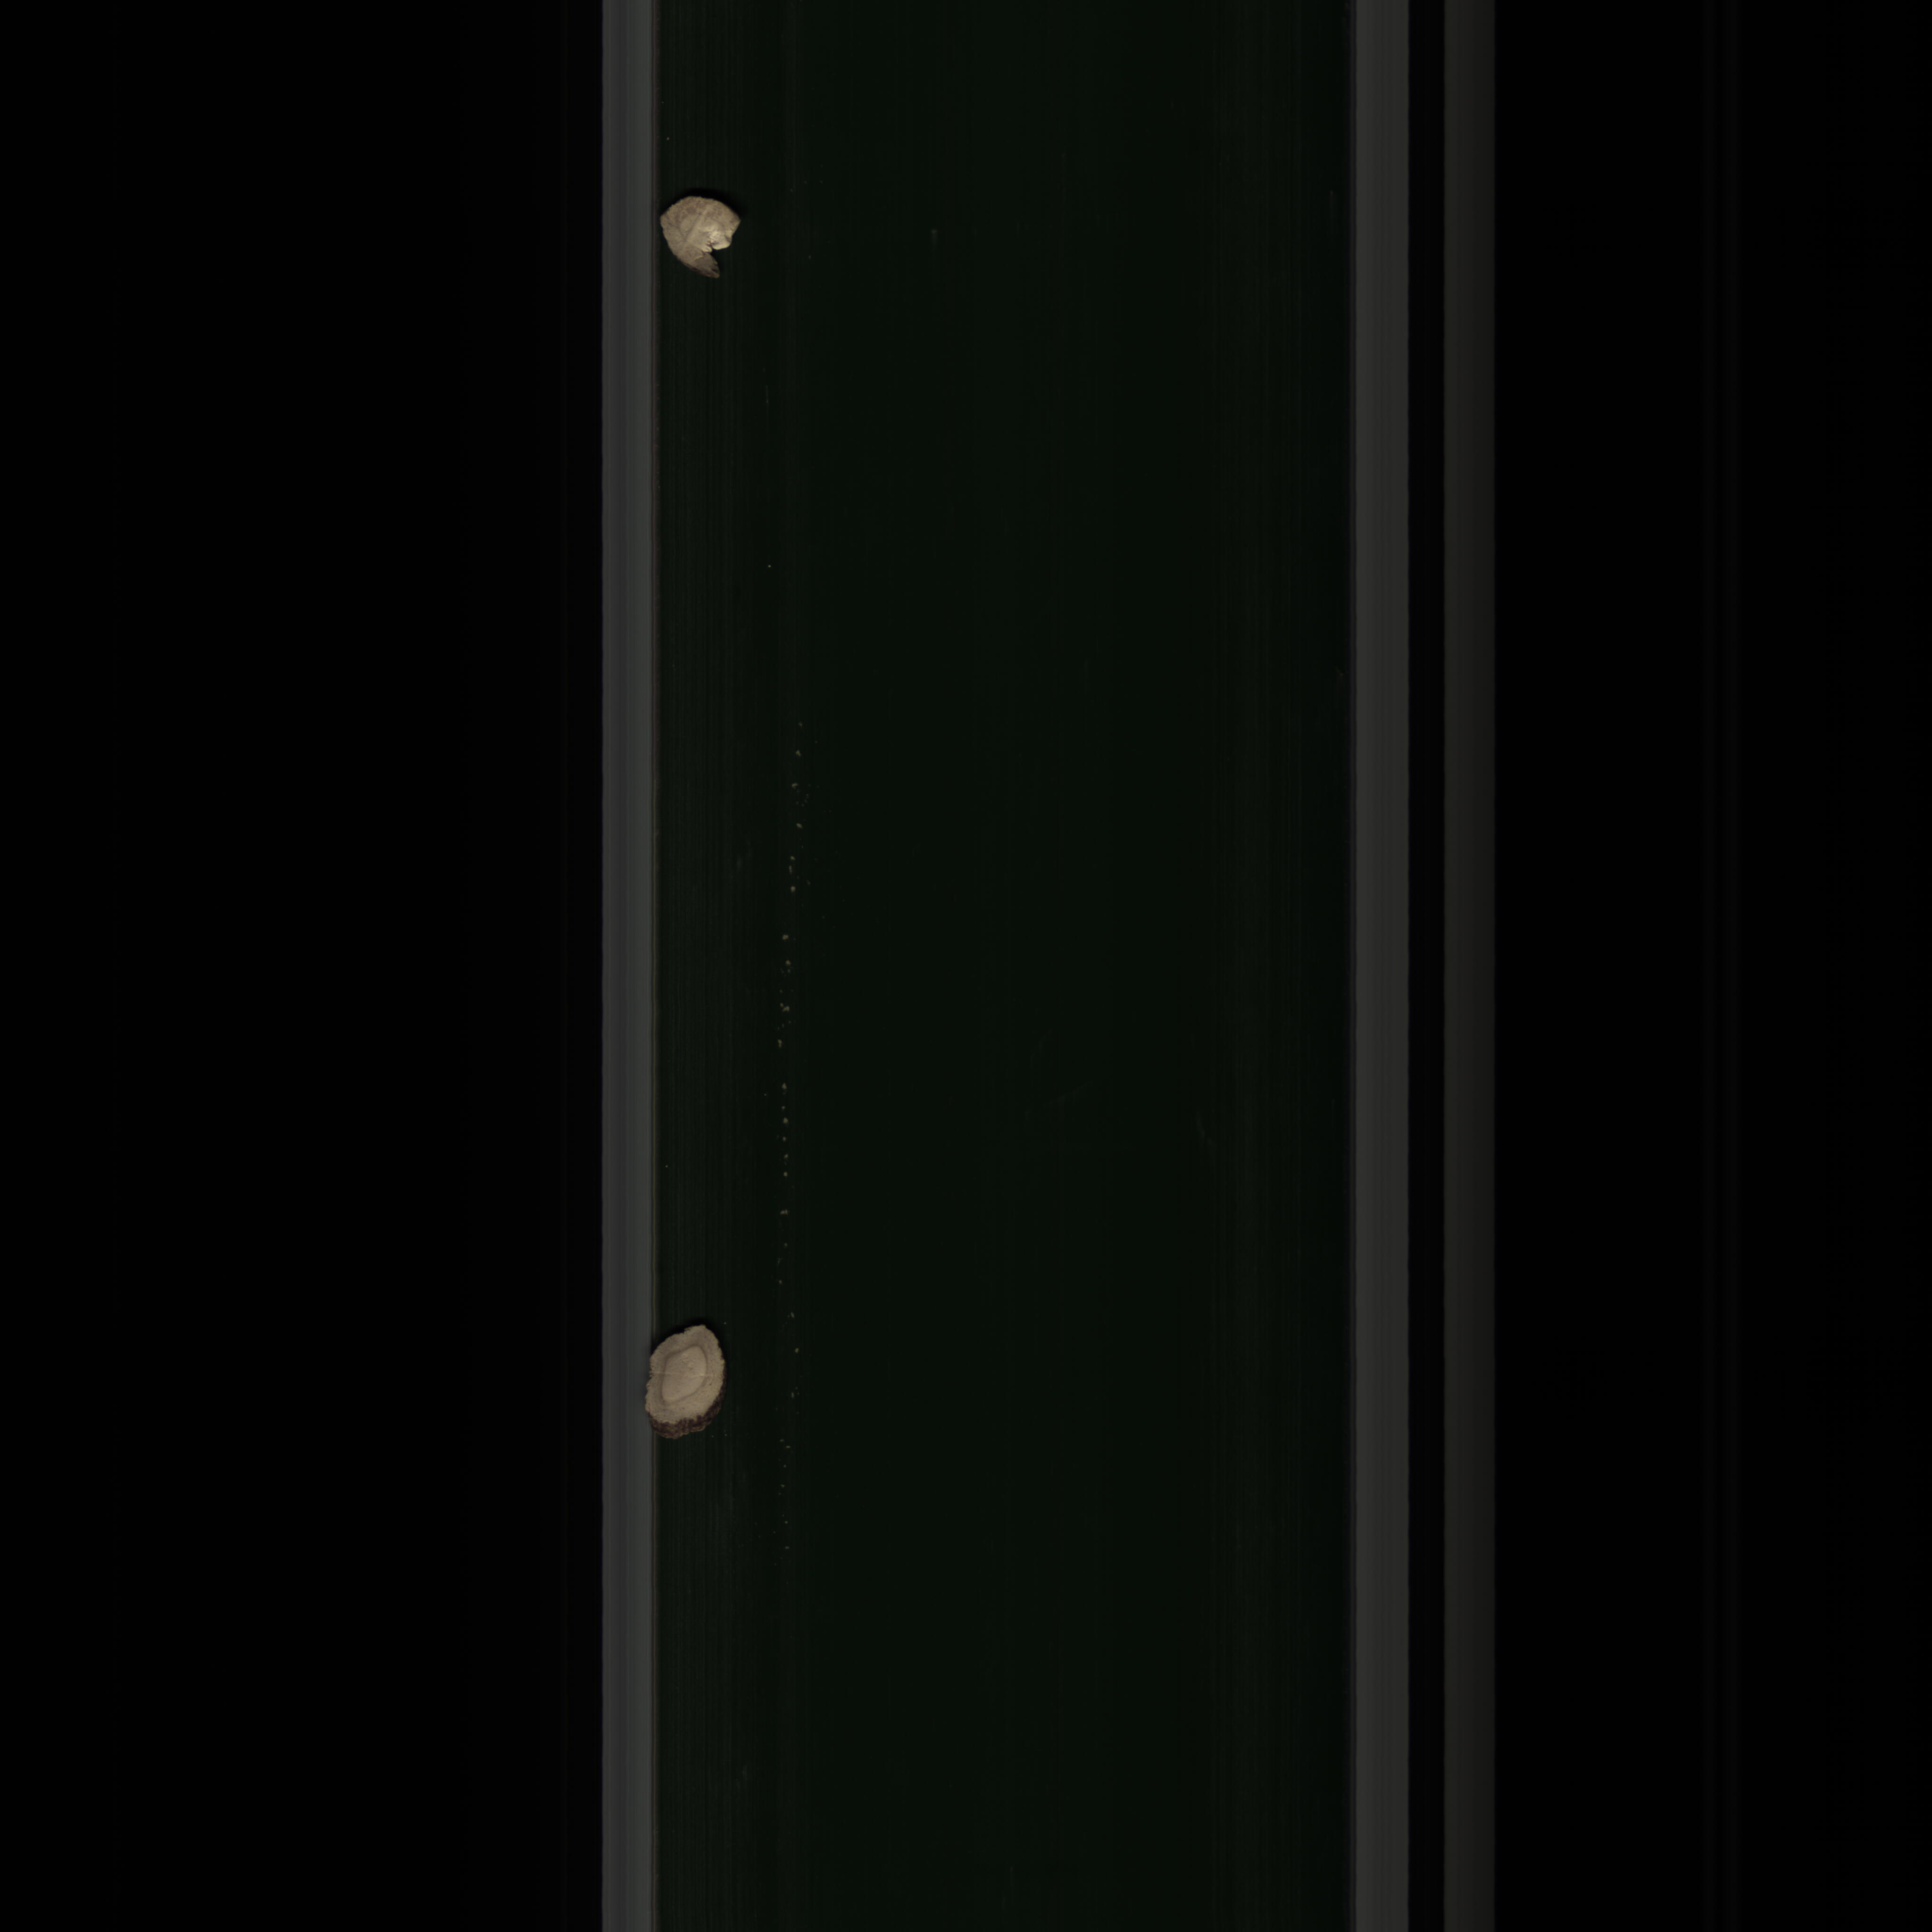debris: (649, 173, 741, 299)
